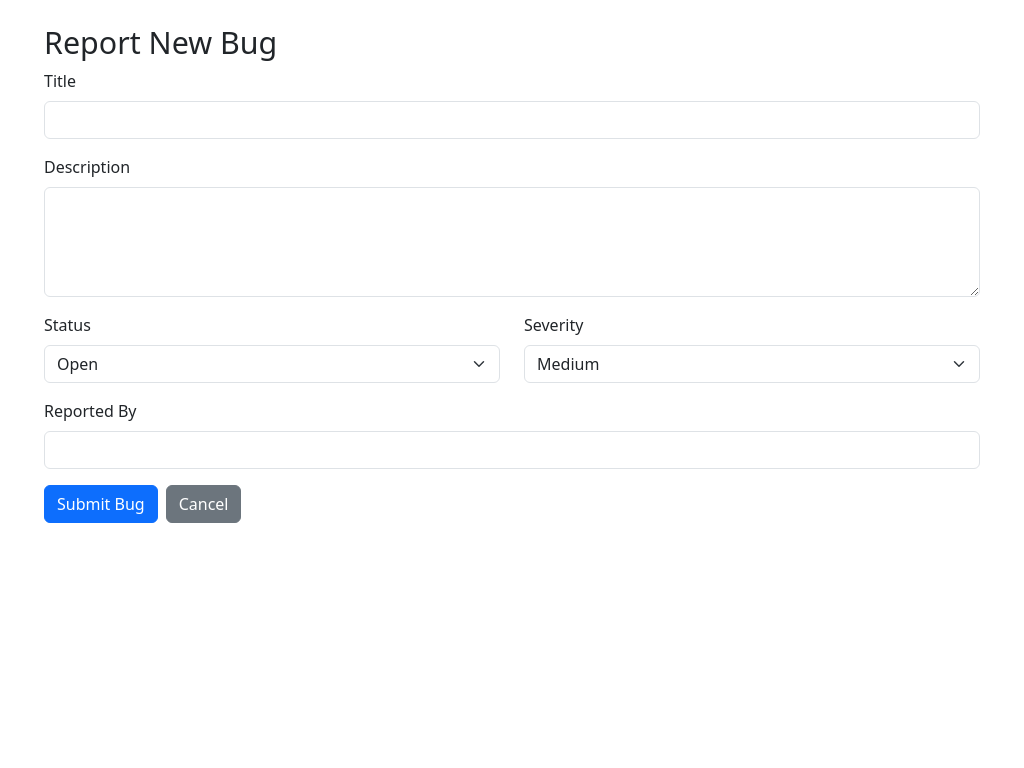
Scenario: BugForm Component › validates form on submission
# Submit with empty form
Click the button "Submit Bug" at (101, 504), box top-left (44, 484), bottom-right (158, 522)
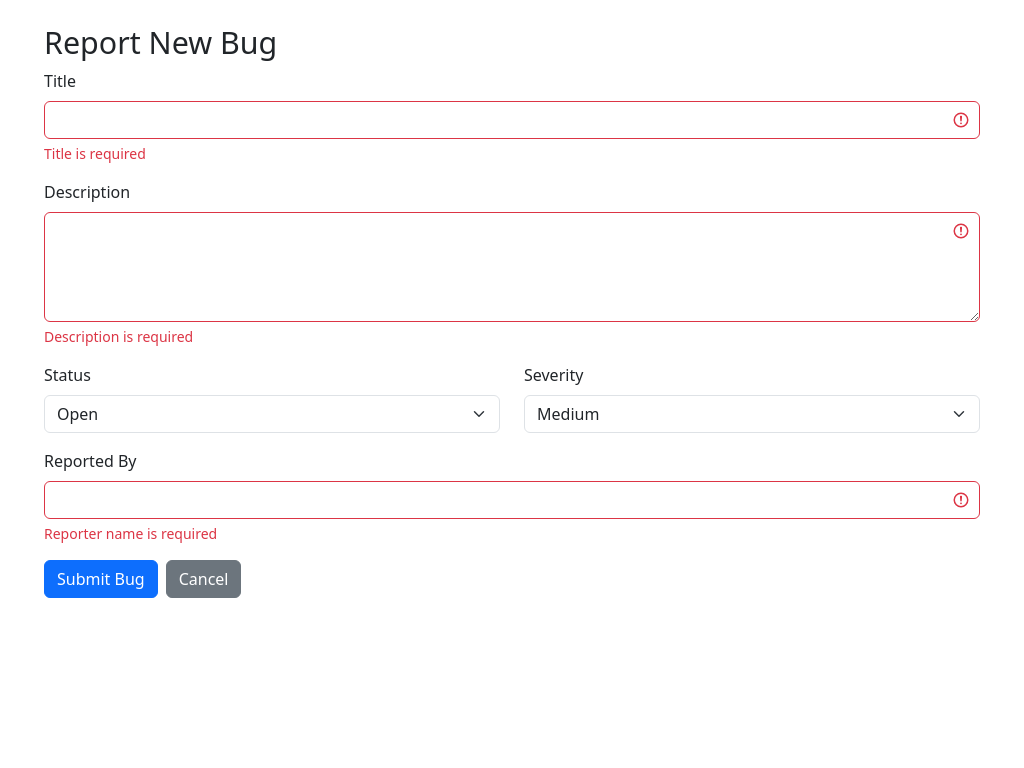
Check: the text "Title is required" is shown, box top-left (44, 144), bottom-right (146, 162)
Check: the text "Description is required" is shown, box top-left (44, 326), bottom-right (193, 346)
Check: the text "Reporter name is required" is shown, box top-left (44, 524), bottom-right (217, 542)
